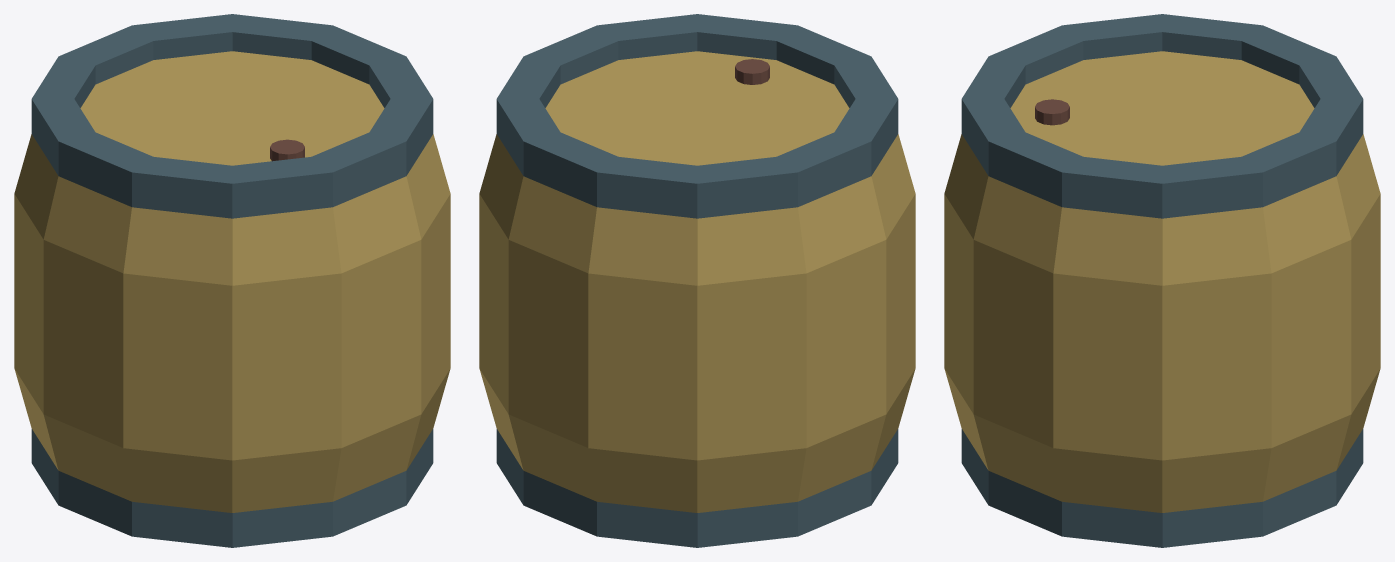
Rendered from barrel.fbx.
3 views of the same model, side by side, from view 1: azimuth 30°, elevation 25°; view 2: azimuth 150°, elevation 25°; view 3: azimuth 270°, elevation 25° (orthographic).
Visible parts, largest first — view 1: Cylinder; view 2: Cylinder; view 3: Cylinder.
Part boxes in pixels (box(x1,y1,x2,y2)): Cylinder: box(14, 14, 450, 547); Cylinder: box(479, 14, 915, 547); Cylinder: box(944, 14, 1380, 547).
Bounding box in the file's own units: 217 × 200 × 217.
